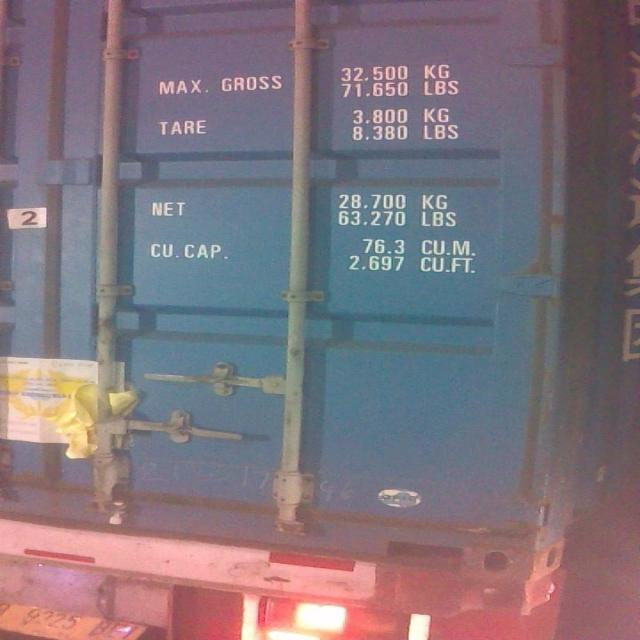seal: (105, 496, 128, 529)
